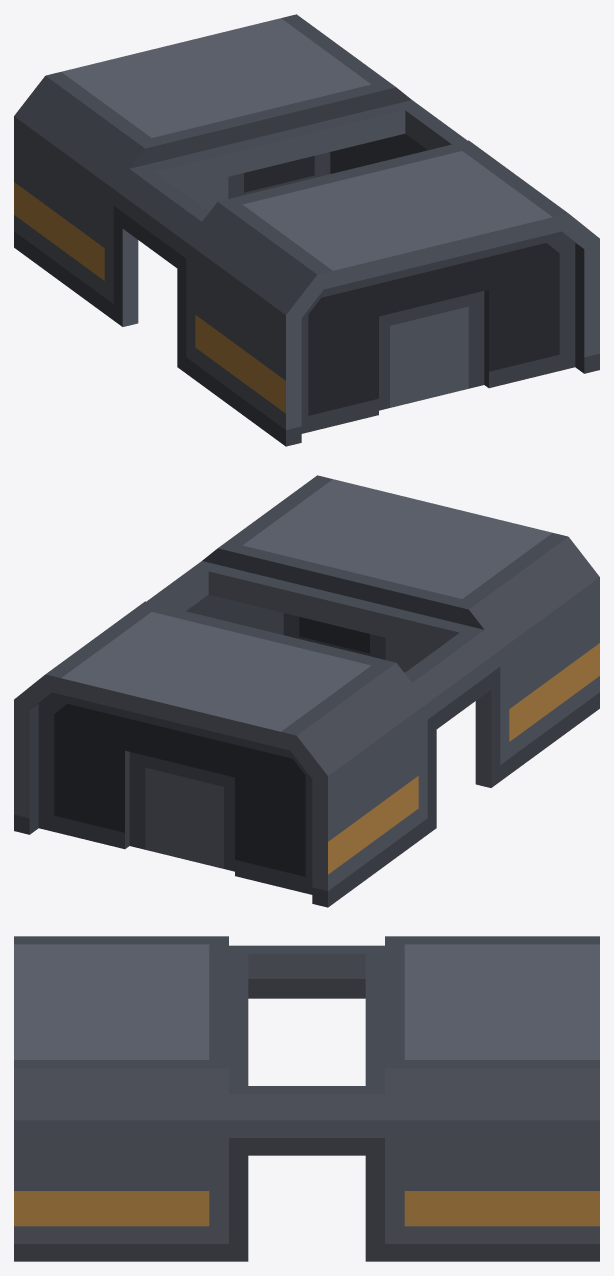
Rendered from station_hangarLarge.glb.
3 views of the same model, one above another, from view 1: azimuth 30°, elevation 25°; view 2: azimuth 150°, elevation 25°; view 3: azimuth 270°, elevation 25° (orthographic). The views are drawn at different scales.
Visible parts, largest first — view 1: body; view 2: body; view 3: body.
Part boxes in pixels (box(x1,y1,x2,y2)): body: box(14, 14, 599, 446); body: box(14, 475, 599, 907); body: box(14, 936, 599, 1261).
Bounding box in the file's own units: 2 × 1 × 3.
